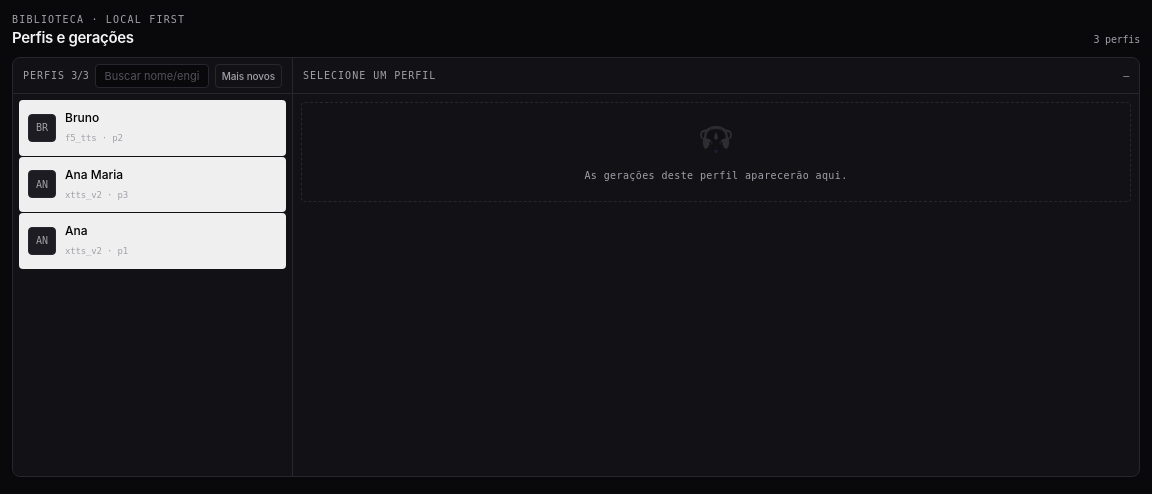
it: ProjetosTab search/ordenação › busca sem resultado mostra vazio
The width and height of the screenshot is (1152, 494).
Type "zzz" into the field with placeholder "Buscar nome/engine" at x=152, y=76, box [95,64,209,88]
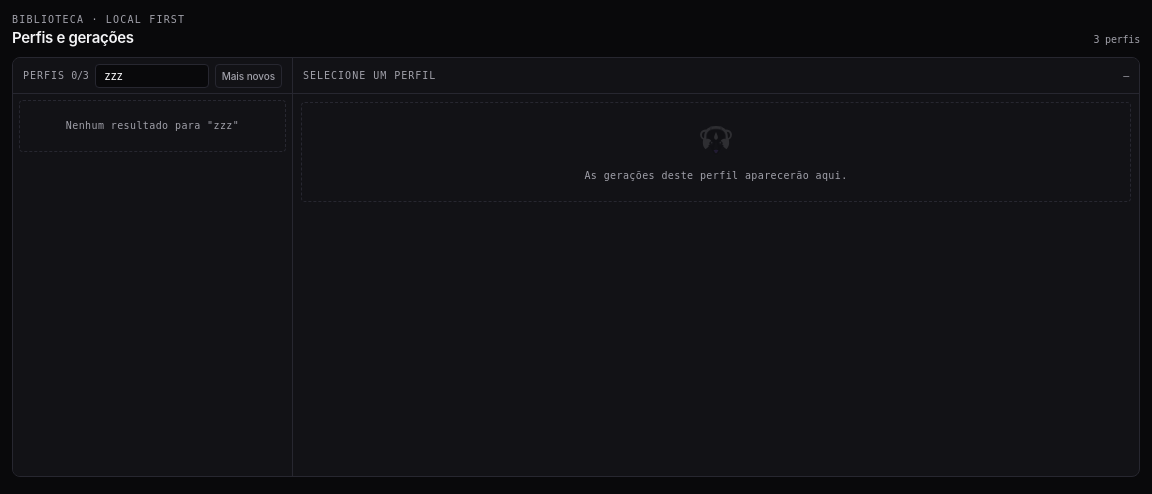
Check: the text "Nenhum resultado para \"zzz\"" is shown, box [66,119,239,133]
